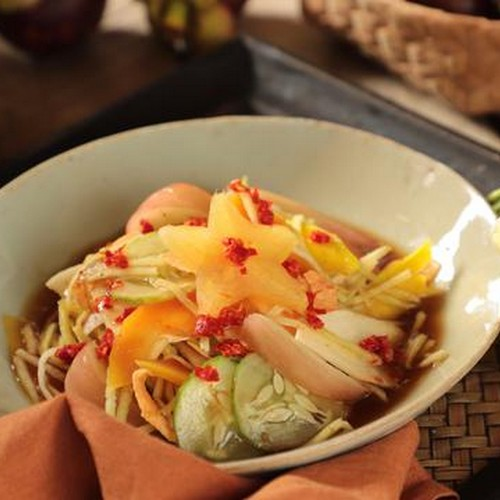rujak buleleng: (85, 174, 403, 409)
